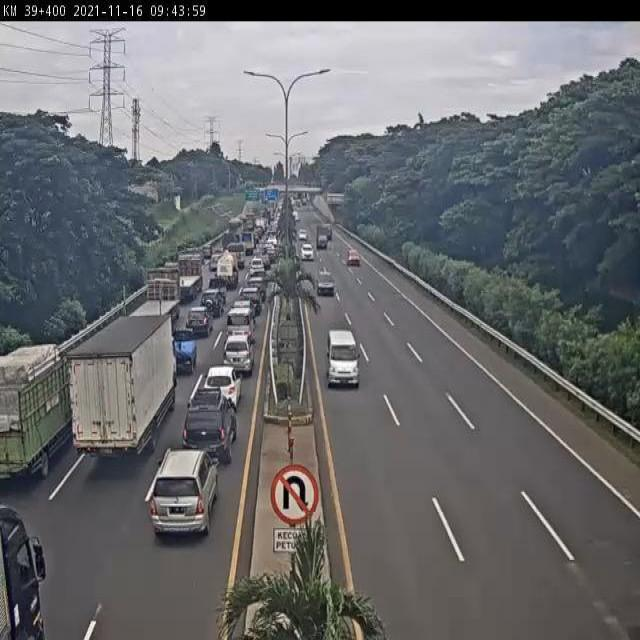car: (145, 445, 219, 544), (185, 388, 240, 465), (325, 329, 361, 392), (206, 366, 244, 414), (166, 324, 201, 373), (223, 336, 253, 381), (225, 306, 253, 346), (184, 303, 212, 340), (202, 288, 227, 317), (238, 286, 261, 314), (317, 271, 337, 300), (248, 279, 266, 300), (315, 223, 328, 249), (301, 244, 316, 260), (249, 258, 264, 274), (347, 250, 361, 266), (259, 253, 271, 270), (298, 228, 306, 241)
truck-l-: (128, 272, 180, 324), (162, 253, 204, 303)
truck-m-: (66, 312, 181, 463), (0, 339, 75, 484), (210, 251, 239, 289)
